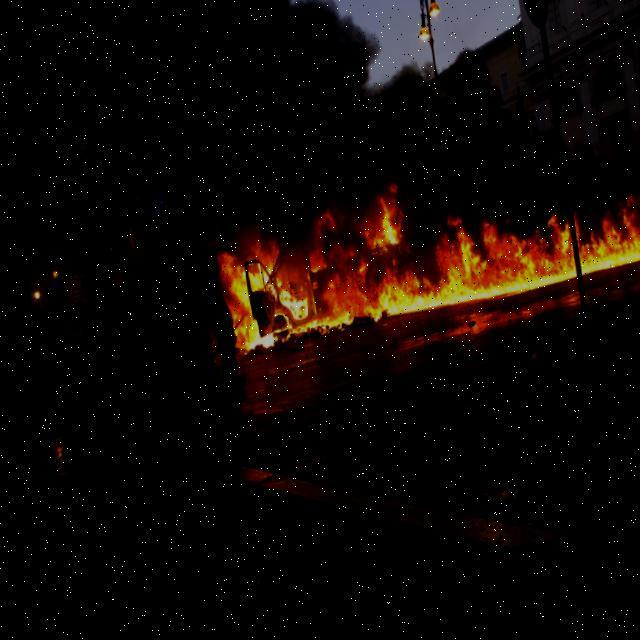Fire: (204, 158, 639, 363)
